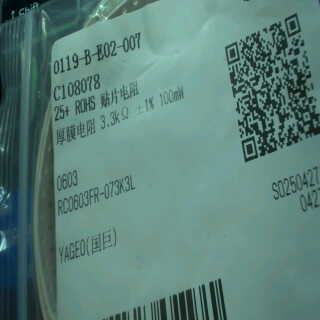3.3kO: (95, 101, 131, 130)
